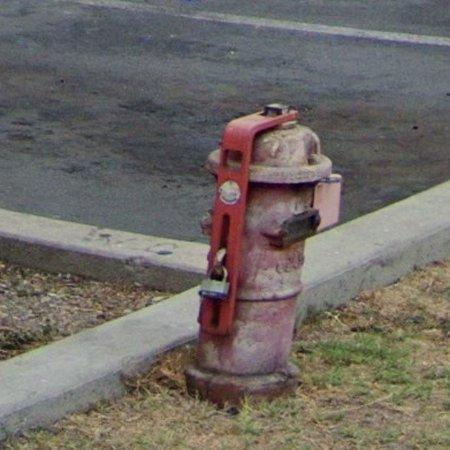a fire hydrant: (187, 104, 342, 405)
